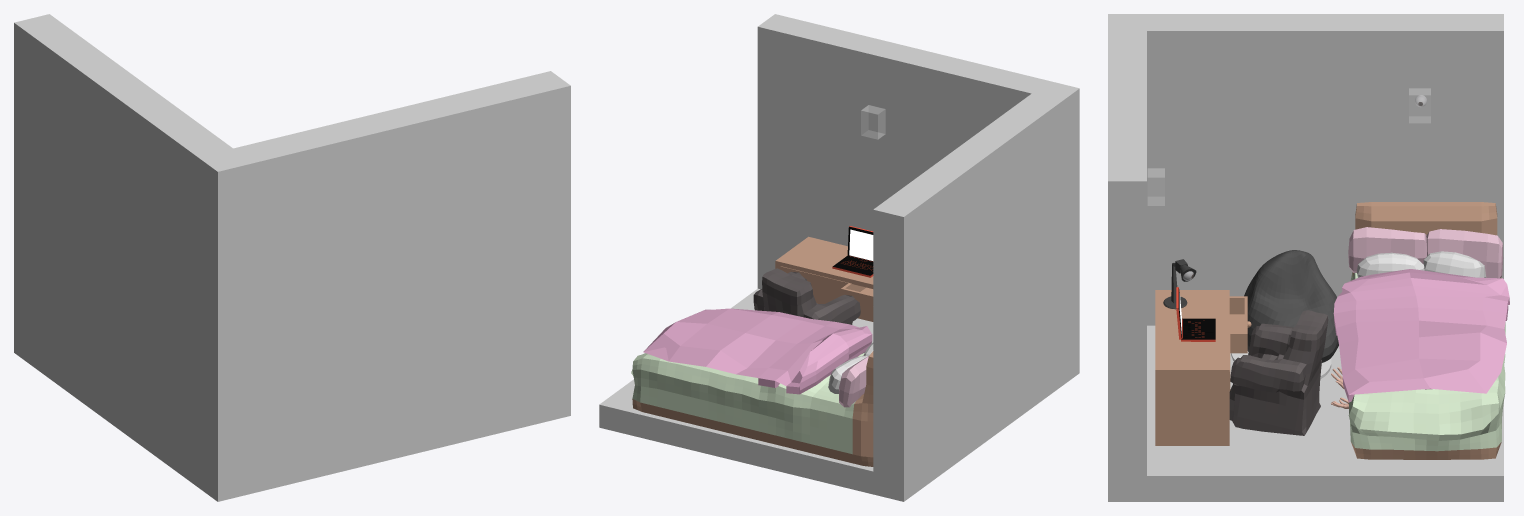
File: animationtest2.fbx
The picture shows the model from 3 angles, left to right: view 1: azimuth 30°, elevation 25°; view 2: azimuth 150°, elevation 25°; view 3: azimuth 270°, elevation 25°; orthographic projection. The views are drawn at different scales.
Parts seen in each view (by area): view 1: walls; view 2: walls, bed, blanket, chair, desk, laptop, pillows, sconce1, drawer1, drawer2, cushions; view 3: walls, blanket, bed, desk, chair, beanbag, pillows, cushions, drawer2, laptop, sconce2, lamp (+1 smaller).
Part boxes in pixels (x1,y1,x2,y2): walls: (14,14,570,501); walls: (599,14,1079,501); bed: (631,351,873,466); blanket: (643,308,872,394); chair: (753,268,860,324); desk: (775,236,873,321); laptop: (832,226,873,277); pillows: (839,356,868,407); sconce1: (861,105,885,139); drawer1: (780,266,848,297); drawer2: (841,283,873,313); cushions: (828,342,873,393); walls: (1108,14,1503,501); blanket: (1333,269,1509,402); bed: (1348,202,1505,459); desk: (1155,290,1229,445); chair: (1229,310,1328,435); beanbag: (1244,250,1338,362); pillows: (1348,227,1503,278); cushions: (1356,251,1485,277); drawer2: (1229,296,1251,353); laptop: (1176,287,1215,341); sconce2: (1409,88,1430,123); lamp: (1163,259,1196,309).
Size of the model in its own units: 1065 by 951 by 1081.
